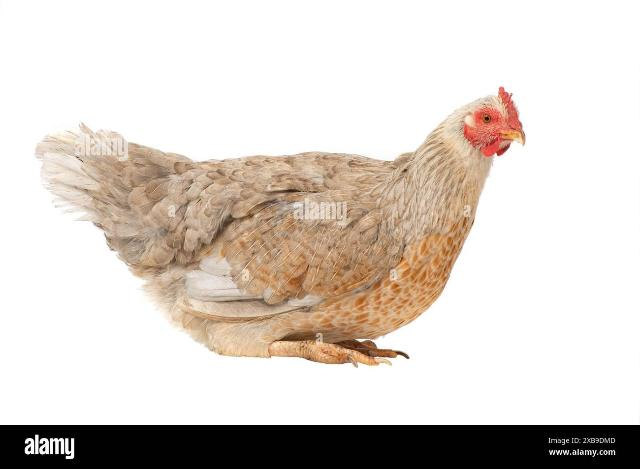Chicken: (33, 86, 526, 370)
